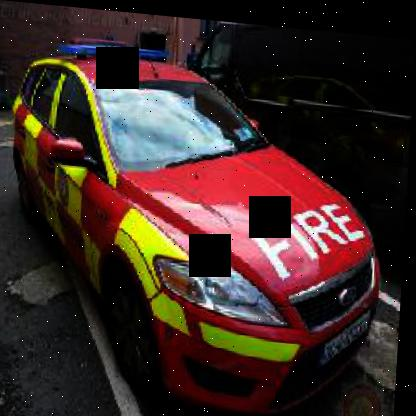emergency: (0, 2, 399, 412)
